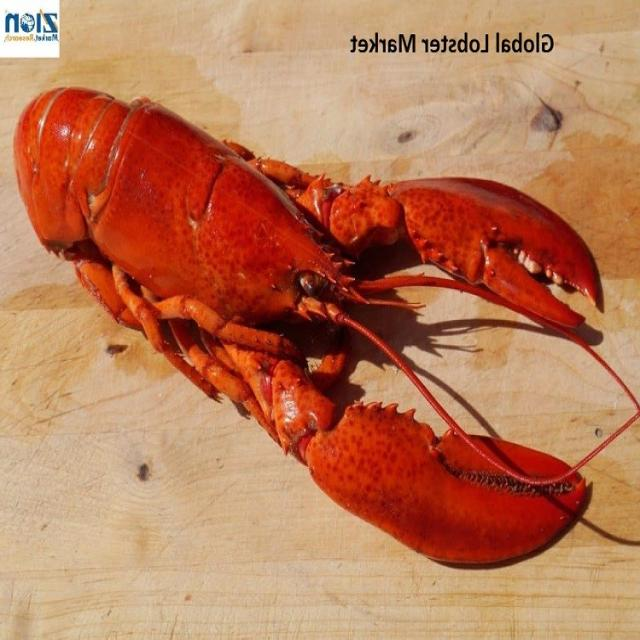Lobster: (14, 88, 601, 563)
